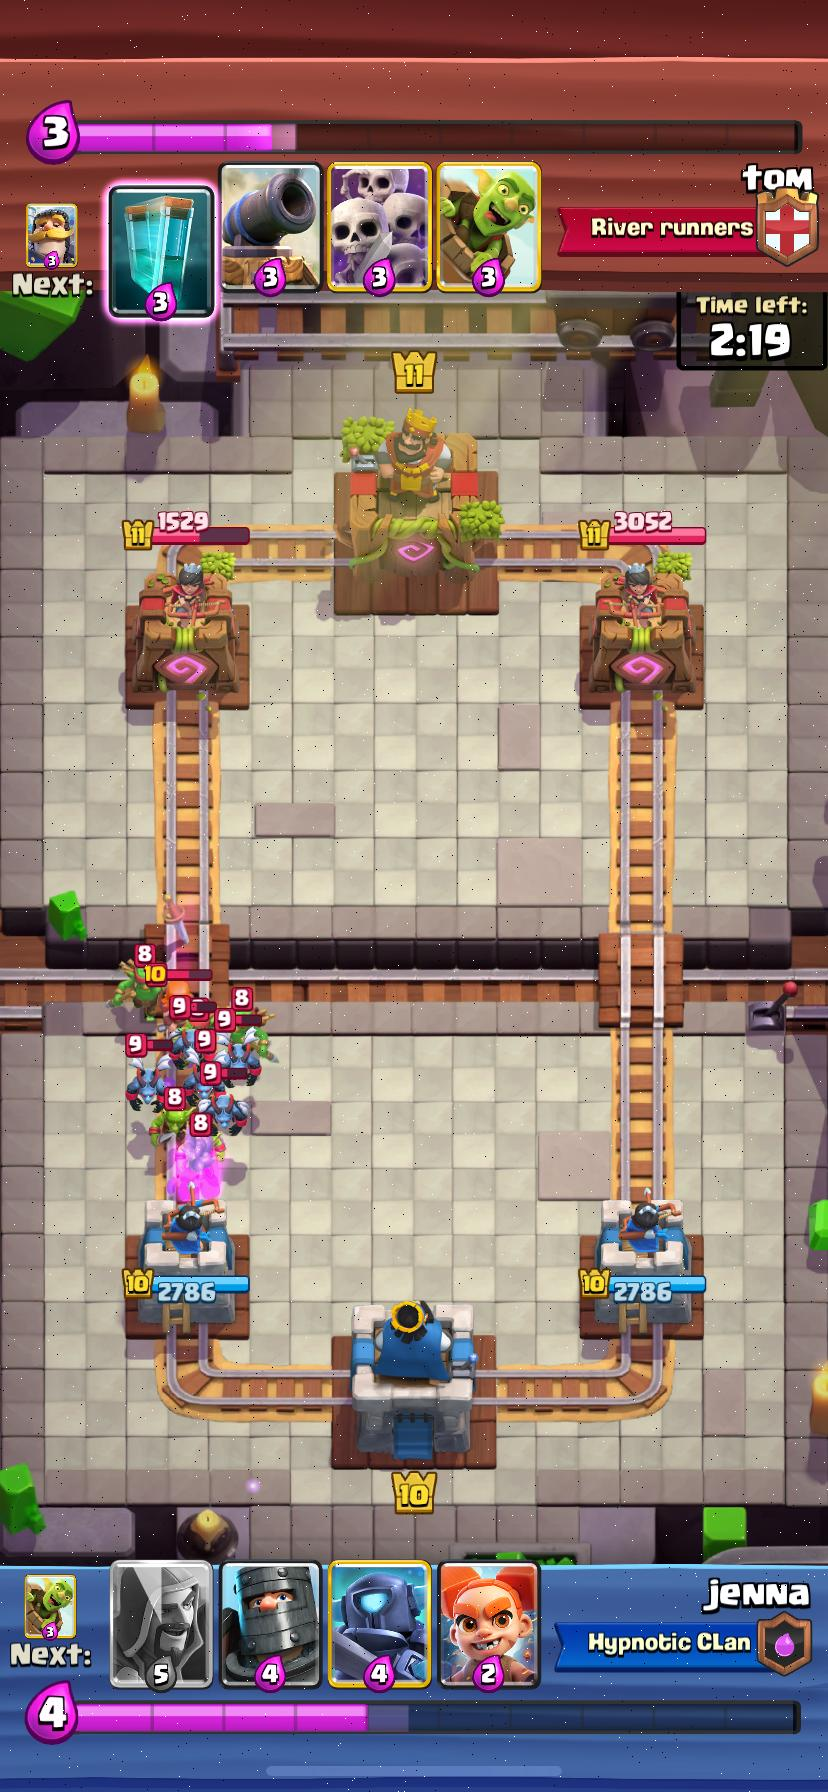EGoblin: (149, 1106, 197, 1147)
EKingTower: (340, 408, 491, 581)
ESpearGoblin: (105, 959, 164, 1022)
EValk: (161, 981, 194, 1034)
EnemyPrincessTower: (134, 546, 238, 694), (588, 560, 694, 693)
OwnKingTower: (351, 1301, 477, 1459)
OwnPrincessTower: (589, 1200, 704, 1330), (138, 1200, 248, 1323)
eminion: (213, 1043, 262, 1086), (199, 1095, 249, 1136), (126, 1069, 167, 1113), (184, 1066, 226, 1106), (170, 1029, 197, 1071)
